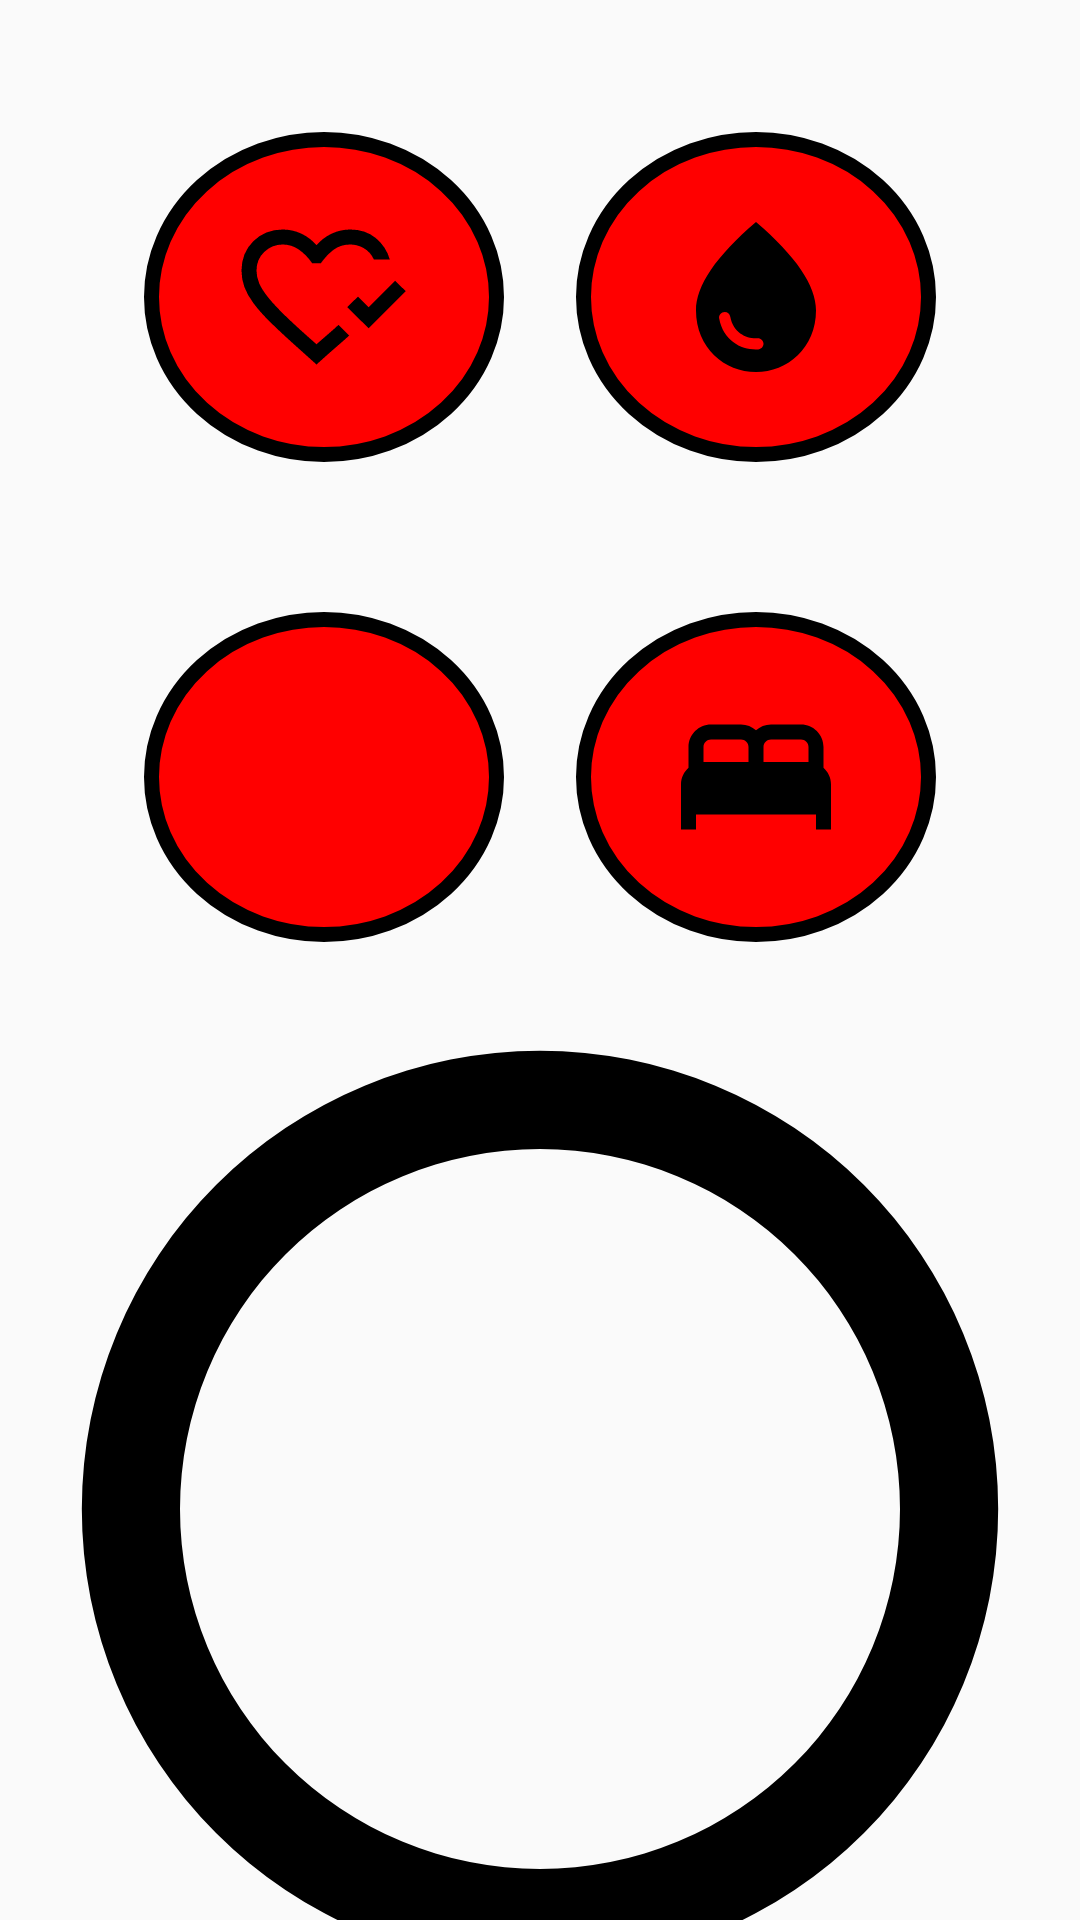

Named icons in this screenshot (1080*1920) and their bounding boxes, (x1, y1, x2, y2):
heart: (144, 132, 504, 462)
hydration: (576, 132, 936, 462)
sleep: (576, 612, 936, 942)
